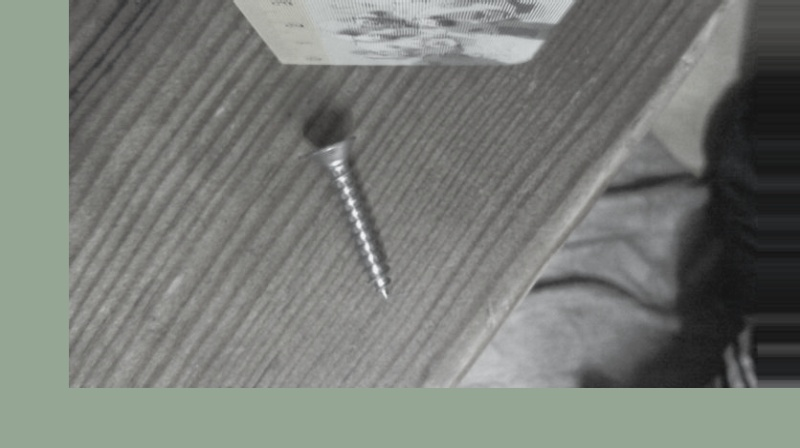S001: (297, 133, 397, 301)
